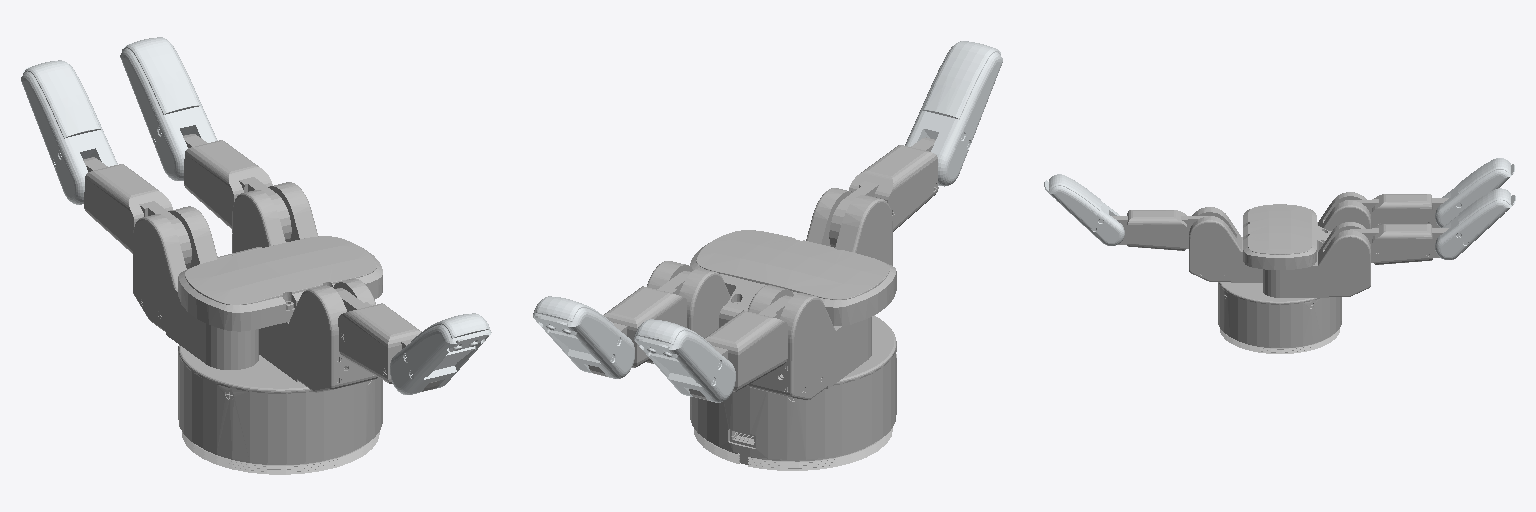
robot.urdf — BarrettHand-280:
<?xml version="1.0" encoding="utf-8"?>

<robot name="BarrettHand-280">

  <link name="base_link">
    <inertial>
      <origin
        xyz="-1.53444458471812E-05 -0.00277693650469599 0.0352882288900349"
        rpy="0 0 0" />
      <mass
        value="0.37796637904835" />
      <inertia
        ixx="0.000427326369503117"
        ixy="-2.6443308211041E-07"
        ixz="2.02907486148204E-07"
        iyy="0.000361316173022239"
        iyz="3.07926859199233E-05"
        izz="0.000376798127757583" />
    </inertial>
    <visual>
      <origin
        xyz="0 0 0"
        rpy="0 0 0" />
      <geometry>
        <mesh
          filename="package://BarrettHand-280.SLDASM/meshes/base_link.STL" />
      </geometry>
      <material
        name="">
        <color
          rgba="0.752941176470588 0.752941176470588 0.752941176470588 1" />
      </material>
    </visual>
    <collision>
      <origin
        xyz="0 0 0"
        rpy="0 0 0" />
      <geometry>
        <mesh
          filename="package://BarrettHand-280.SLDASM/meshes/base_link.STL" />
      </geometry>
    </collision>
  </link>

  <joint name="finger_1_prox_joint"
    type="revolute">
    <origin
      xyz="0.025 0 0.0415000000000004"
      rpy="3.14159265358979 0 1.5707963267949" />
    <parent
      link="base_link" />
    <child
      link="finger_1_prox_link" />
    <axis
      xyz="0 0 1" />
    <limit
      lower="0"
      upper="3.14"
      effort="0"
      velocity="0.001" />
  </joint>

  <link name="finger_1_prox_link">
    <inertial>
      <origin
        xyz="0.0288648917008987 9.98379746692118E-05 -0.0171253477569802"
        rpy="0 0 0" />
      <mass
        value="56143.0626955765" />
      <inertia
        ixx="10.4484040652085"
        ixy="-0.117861448219975"
        ixz="5.31613760585343"
        iyy="33.9552353012776"
        iyz="0.0780041192837709"
        izz="29.3669090518615" />
    </inertial>
    <visual>
      <origin
        xyz="0 0 0"
        rpy="0 0 0" />
      <geometry>
        <mesh
          filename="package://BarrettHand-280.SLDASM/meshes/finger_1_prox_link.STL" />
      </geometry>
      <material
        name="">
        <color
          rgba="0.752941176470588 0.752941176470588 0.752941176470588 1" />
      </material>
    </visual>
    <collision>
      <origin
        xyz="0 0 0"
        rpy="0 0 0" />
      <geometry>
        <mesh
          filename="package://BarrettHand-280.SLDASM/meshes/finger_1_prox_link.STL" />
      </geometry>
    </collision>
  </link>



  <link
    name="finger_1_med_liink">
    <inertial>
      <origin
        xyz="0.030918176135544 0.00196930249325443 -0.000743369842666076"
        rpy="0 0 0" />
      <mass
        value="31321.1214212939" />
      <inertia
        ixx="2.18512832127284"
        ixy="-0.844484268309696"
        ixz="-0.0135401272401388"
        iyy="17.3596441998536"
        iyz="-0.00112669216751947"
        izz="17.7656644395659" />
    </inertial>
    <visual>
      <origin
        xyz="0 0 0"
        rpy="0 0 0" />
      <geometry>
        <mesh
          filename="package://BarrettHand-280.SLDASM/meshes/finger_1_med_liink.STL" />
      </geometry>
      <material
        name="">
        <color
          rgba="0.752941176470588 0.752941176470588 0.752941176470588 1" />
      </material>
    </visual>
    <collision>
      <origin
        xyz="0 0 0"
        rpy="0 0 0" />
      <geometry>
        <mesh
          filename="package://BarrettHand-280.SLDASM/meshes/finger_1_med_liink.STL" />
      </geometry>
    </collision>
  </link>

  <joint
    name="finger_1_med_joint"
    type="revolute">
    <origin
      xyz="0.05 0 -0.0339"
      rpy="-1.5707963267949 0 0" />
    <parent
      link="finger_1_prox_link" />
    <child
      link="finger_1_med_liink" />
    <axis
      xyz="0 0 1" />
    <limit
      lower="0"
      upper="2.442"
      effort="0"
      velocity="0.001" />
  </joint>

  <link
    name="finger_1_dist_link">
    <inertial>
      <origin
        xyz="0.0183314958539984 0.0175633699810199 -0.000497127764360405"
        rpy="0 0 0" />
      <mass
        value="19342.3313676742" />
      <inertia
        ixx="3.6746611256125"
        ixy="-2.57800680729493"
        ixz="0.0345727627030951"
        iyy="4.08727013390303"
        iyz="0.0329223458041859"
        izz="5.9939538795115" />
    </inertial>
    <visual>
      <origin
        xyz="0 0 0"
        rpy="0 0 0" />
      <geometry>
        <mesh
          filename="package://BarrettHand-280.SLDASM/meshes/finger_1_dist_link.STL" />
      </geometry>
      <material
        name="">
        <color
          rgba="0.898039215686275 0.917647058823529 0.929411764705882 1" />
      </material>
    </visual>
    <collision>
      <origin
        xyz="0 0 0"
        rpy="0 0 0" />
      <geometry>
        <mesh
          filename="package://BarrettHand-280.SLDASM/meshes/finger_1_dist_link.STL" />
      </geometry>
    </collision>
  </link>

  <joint
    name="finger_1_dist_joint"
    type="revolute">
    <origin
      xyz="0.0699356847396234 0.003 0"
      rpy="0 0 0" />
    <parent
      link="finger_1_med_liink" />
    <child
      link="finger_1_dist_link" />
    <axis
      xyz="0 0 1" />
    <limit
      lower="0"
      upper="0.8373"
      effort="0"
      velocity="0.001" />
  </joint>

  <link
    name="finger_2_prox_link">
    <inertial>
      <origin
        xyz="0.0288648917008987 -9.98379746692153E-05 0.0171253477569802"
        rpy="0 0 0" />
      <mass
        value="56143.0626955765" />
      <inertia
        ixx="10.4484040652085"
        ixy="0.117861448219975"
        ixz="-5.31613760585343"
        iyy="33.9552353012776"
        iyz="0.0780041192837699"
        izz="29.3669090518615" />
    </inertial>
    <visual>
      <origin
        xyz="0 0 0"
        rpy="0 0 0" />
      <geometry>
        <mesh
          filename="package://BarrettHand-280.SLDASM/meshes/finger_2_prox_link.STL" />
      </geometry>
      <material
        name="">
        <color
          rgba="0.752941176470588 0.752941176470588 0.752941176470588 1" />
      </material>
    </visual>
    <collision>
      <origin
        xyz="0 0 0"
        rpy="0 0 0" />
      <geometry>
        <mesh
          filename="package://BarrettHand-280.SLDASM/meshes/finger_2_prox_link.STL" />
      </geometry>
    </collision>
  </link>

  <joint
    name="finger_2_prox_joint"
    type="revolute">
    <origin
      xyz="-0.025 0 0.0415000000000004"
      rpy="0 0 1.5707963267949" />
    <parent
      link="base_link" />
    <child
      link="finger_2_prox_link" />
    <axis
      xyz="0 0 -1" />
    <limit
      lower="-3.14"
      upper="0"
      effort="1"
      velocity="0.001" />
  </joint>

  <link
    name="finger_2_med_link">
    <inertial>
      <origin
        xyz="0.0309061378225848 0.00214997948654991 -0.000743369814045599"
        rpy="0 0 0" />
      <mass
        value="31321.1215499126" />
      <inertia
        ixx="2.19551825824831"
        ixy="-0.933117181988174"
        ixz="-0.0135333166873643"
        iyy="17.3492542935561"
        iyz="-0.00120585854514776"
        izz="17.7656644132238" />
    </inertial>
    <visual>
      <origin
        xyz="0 0 0"
        rpy="0 0 0" />
      <geometry>
        <mesh
          filename="package://BarrettHand-280.SLDASM/meshes/finger_2_med_link.STL" />
      </geometry>
      <material
        name="">
        <color
          rgba="0.752941176470588 0.752941176470588 0.752941176470588 1" />
      </material>
    </visual>
    <collision>
      <origin
        xyz="0 0 0"
        rpy="0 0 0" />
      <geometry>
        <mesh
          filename="package://BarrettHand-280.SLDASM/meshes/finger_2_med_link.STL" />
      </geometry>
    </collision>
  </link>

  <joint
    name="finger_2_med_joint"
    type="revolute">
    <origin
      xyz="0.05 0 0.0339"
      rpy="1.5707963267949 0 0" />
    <parent
      link="finger_2_prox_link" />
    <child
      link="finger_2_med_link" />
    <axis
      xyz="0 0 1" />
    <limit
      lower="0"
      upper="2.442"
      effort="0"
      velocity="0.001" />
  </joint>

  <link
    name="finger_2_dist_link">
    <inertial>
      <origin
        xyz="0.0181940670014982 0.0177056949358594 -0.00049712776428296"
        rpy="0 0 0" />
      <mass
        value="19342.3314711351" />
      <inertia
        ixx="3.71486606059011"
        ixy="-2.58090906864381"
        ixz="0.0343151438112268"
        iyy="4.04706523231237"
        iyz="0.033190779182162"
        izz="5.99395392015211" />
    </inertial>
    <visual>
      <origin
        xyz="0 0 0"
        rpy="0 0 0" />
      <geometry>
        <mesh
          filename="package://BarrettHand-280.SLDASM/meshes/finger_2_dist_link.STL" />
      </geometry>
      <material
        name="">
        <color
          rgba="0.898039215686275 0.917647058823529 0.929411764705882 1" />
      </material>
    </visual>
    <collision>
      <origin
        xyz="0 0 0"
        rpy="0 0 0" />
      <geometry>
        <mesh
          filename="package://BarrettHand-280.SLDASM/meshes/finger_2_dist_link.STL" />
      </geometry>
    </collision>
  </link>

  <joint
    name="finger_2_dist_joint"
    type="revolute">
    <origin
      xyz="0.0699169557175366 0.00340870990147102 0"
      rpy="0 0 0" />
    <parent
      link="finger_2_med_link" />
    <child
      link="finger_2_dist_link" />
    <axis
      xyz="0 0 1" />
    <limit
      lower="0"
      upper="0.8373"
      effort="0"
      velocity="0.001" />
  </joint>

  <link
    name="finger_3_med_link">
    <inertial>
      <origin
        xyz="0.0309181761355441 0.00196930249325443 -0.000743369842666415"
        rpy="0 0 0" />
      <mass
        value="31321.121421294" />
      <inertia
        ixx="2.18512832127284"
        ixy="-0.844484268309697"
        ixz="-0.0135401272400822"
        iyy="17.3596441998537"
        iyz="-0.00112669216751505"
        izz="17.7656644395659" />
    </inertial>
    <visual>
      <origin
        xyz="0 0 0"
        rpy="0 0 0" />
      <geometry>
        <mesh
          filename="package://BarrettHand-280.SLDASM/meshes/finger_3_med_link.STL" />
      </geometry>
      <material
        name="">
        <color
          rgba="0.752941176470588 0.752941176470588 0.752941176470588 1" />
      </material>
    </visual>
    <collision>
      <origin
        xyz="0 0 0"
        rpy="0 0 0" />
      <geometry>
        <mesh
          filename="package://BarrettHand-280.SLDASM/meshes/finger_3_med_link.STL" />
      </geometry>
    </collision>
  </link>

  <joint
    name="finger_3_med_joint"
    type="revolute">
    <origin
      xyz="0 -0.05 0.0754000000000003"
      rpy="1.5707963267949 0 -1.5707963267949" />
    <parent
      link="base_link" />
    <child
      link="finger_3_med_link" />
    <axis
      xyz="0 0 -1" />
    <limit
      lower="-2.442"
      upper="0"
      effort="0"
      velocity="0.001" />
  </joint>

  <link
    name="finger_3_dist_link">
    <inertial>
      <origin
        xyz="0.0183314958544332 0.0175633699805676 -0.000497127764368882"
        rpy="0 0 0" />
      <mass
        value="19342.3313676742" />
      <inertia
        ixx="3.67466112548529"
        ixy="-2.57800680728476"
        ixz="0.0345727627040426"
        iyy="4.08727013403026"
        iyz="0.0329223458034849"
        izz="5.9939538795115" />
    </inertial>
    <visual>
      <origin
        xyz="0 0 0"
        rpy="0 0 0" />
      <geometry>
        <mesh
          filename="package://BarrettHand-280.SLDASM/meshes/finger_3_dist_link.STL" />
      </geometry>
      <material
        name="">
        <color
          rgba="0.898039215686275 0.917647058823529 0.929411764705882 1" />
      </material>
    </visual>
    <collision>
      <origin
        xyz="0 0 0"
        rpy="0 0 0" />
      <geometry>
        <mesh
          filename="package://BarrettHand-280.SLDASM/meshes/finger_3_dist_link.STL" />
      </geometry>
    </collision>
  </link>

  <joint
    name="finger_3_dist_joint"
    type="revolute">
    <origin
      xyz="0.0699356847396236 0.00300000000000011 0"
      rpy="0 0 0" />
    <parent
      link="finger_3_med_link" />
    <child
      link="finger_3_dist_link" />
    <axis
      xyz="0 0 1" />
    <limit
      lower="0"
      upper="0.8373"
      effort="0"
      velocity="0.001" />
  </joint>



  <joint name="joint_base_c"
    type="fixed">
    <origin
      xyz="0 0 0"
      rpy="0 0 0" />
    <parent
      link="base_link" />
    <child
      link="contact_point_base" />
  </joint>

  <link name="contact_point_base">
    <visual>
      <origin rpy="0 0 0" xyz="0 0 0.08"/>
      <geometry>
        <mesh filename="/urdf_model/contact point.obj" scale="1 1 1"/>
      </geometry>
       <material name="red">
        <color rgba="1 0 0 1"/>
      </material>
    </visual>
    <collision>
      <origin rpy="0 0 0" xyz="0 0 0.08"/>
      <geometry>
        <mesh filename="/urdf_model/small_cube.obj" scale="1 1 1"/>
      </geometry>
    </collision>
    <inertial>
      <mass value="0.5"/>
      <inertia ixx="1.0" ixy="0.0" ixz="0.0" iyy="1.0" iyz="0.0" izz="1.0"/>
    </inertial>
  </link>

  <joint name="joint_f1_med_c"
    type="fixed">
    <origin
      xyz="0 0 0"
      rpy="0 0 0" />
    <parent
      link="finger_1_med_liink" />
    <child
      link="contact_point_f1_med" />
  </joint>

  <link name="contact_point_f1_med">
    <visual>
      <origin rpy="0 0 0" xyz="0.04 0.014 0"/>
      <geometry>
        <mesh filename="/urdf_model/contact point.obj" scale="1 1 1"/>
      </geometry>
       <material name="red">
        <color rgba="1 0 0 1"/>
      </material>
    </visual>
    <collision>
      <origin rpy="0 0 0" xyz="0.04 0.014 0"/>
      <geometry>
        <mesh filename="/urdf_model/contact point.obj" scale="1 1 1"/>
      </geometry>
    </collision>
    <inertial>
      <mass value="0.5"/>
      <inertia ixx="1.0" ixy="0.0" ixz="0.0" iyy="1.0" iyz="0.0" izz="1.0"/>
    </inertial>
  </link>

  <joint name="joint_f1_dist_c"
    type="fixed">
    <origin
      xyz="0 0 0"
      rpy="0 0 0" />
    <parent
      link="finger_1_dist_link" />
    <child
      link="contact_point_f1_dist" />
  </joint>

  <link name="contact_point_f1_dist">
    <visual>
      <origin rpy="0 0 0.733" xyz="0.015 0.025 0"/>
      <geometry>
        <mesh filename="/urdf_model/contact point.obj" scale="1 1 1"/>
      </geometry>
       <material name="red">
        <color rgba="1 0 0 1"/>
      </material>
    </visual>
    <collision>
      <origin rpy="0 0 0.733" xyz="0.015 0.025 0"/>
      <geometry>
        <mesh filename="/urdf_model/contact point.obj" scale="1 1 1"/>
      </geometry>
    </collision>
    <inertial>
      <mass value="0.5"/>
      <inertia ixx="1.0" ixy="0.0" ixz="0.0" iyy="1.0" iyz="0.0" izz="1.0"/>
    </inertial>
  </link>

  <joint name="joint_f2_med_c"
    type="fixed">
    <origin
      xyz="0 0 0"
      rpy="0 0 0" />
    <parent
      link="finger_2_med_link" />
    <child
      link="contact_point_f2_med" />
  </joint>

  <link name="contact_point_f2_med">
    <visual>
      <origin rpy="0 0 0" xyz="0.04 0.014 0"/>
      <geometry>
        <mesh filename="/urdf_model/contact point.obj" scale="1 1 1"/>
      </geometry>
       <material name="red">
        <color rgba="1 0 0 1"/>
      </material>
    </visual>
    <collision>
      <origin rpy="0 0 0" xyz="0.04 0.014 0"/>
      <geometry>
        <mesh filename="/urdf_model/contact point.obj" scale="1 1 1"/>
      </geometry>
    </collision>
    <inertial>
      <mass value="0.5"/>
      <inertia ixx="1.0" ixy="0.0" ixz="0.0" iyy="1.0" iyz="0.0" izz="1.0"/>
    </inertial>
  </link>

  <joint name="joint_f2_dist_c"
    type="fixed">
    <origin
      xyz="0 0 0"
      rpy="0 0 0" />
    <parent
      link="finger_2_dist_link" />
    <child
      link="contact_point_f2_dist" />
  </joint>

  <link name="contact_point_f2_dist">
    <visual>
      <origin rpy="0 0 0.733" xyz="0.015 0.025 0"/>
      <geometry>
        <mesh filename="/urdf_model/contact point.obj" scale="1 1 1"/>
      </geometry>
       <material name="red">
        <color rgba="1 0 0 1"/>
      </material>
    </visual>
    <collision>
      <origin rpy="0 0 0.733" xyz="0.015 0.025 0"/>
      <geometry>
        <mesh filename="/urdf_model/contact point.obj" scale="1 1 1"/>
      </geometry>
    </collision>
    <inertial>
      <mass value="0.5"/>
      <inertia ixx="1.0" ixy="0.0" ixz="0.0" iyy="1.0" iyz="0.0" izz="1.0"/>
    </inertial>
  </link>

  <joint name="joint_f3_med_c"
    type="fixed">
    <origin
      xyz="0 0 0"
      rpy="0 0 0" />
    <parent
      link="finger_3_med_link" />
    <child
      link="contact_point_f3_med" />
  </joint>

  <link name="contact_point_f3_med">
    <visual>
      <origin rpy="0 0 0" xyz="0.04 0.014 0"/>
      <geometry>
        <mesh filename="/urdf_model/contact point.obj" scale="1 1 1"/>
      </geometry>
       <material name="red">
        <color rgba="1 0 0 1"/>
      </material>
    </visual>
    <collision>
      <origin rpy="0 0 0" xyz="0.04 0.014 0"/>
      <geometry>
        <mesh filename="/urdf_model/contact point.obj" scale="1 1 1"/>
      </geometry>
    </collision>
    <inertial>
      <mass value="0.5"/>
      <inertia ixx="1.0" ixy="0.0" ixz="0.0" iyy="1.0" iyz="0.0" izz="1.0"/>
    </inertial>
  </link>

  <joint name="joint_f3_dist_c"
    type="fixed">
    <origin
      xyz="0 0 0"
      rpy="0 0 0" />
    <parent
      link="finger_3_dist_link" />
    <child
      link="contact_point_f3_dist" />
  </joint>

  <link name="contact_point_f3_dist">
    <visual>
      <origin rpy="0 0 0.733" xyz="0.015 0.025 0"/>
      <geometry>
        <mesh filename="/urdf_model/contact point.obj" scale="1 1 1"/>
      </geometry>
       <material name="red">
        <color rgba="1 0 0 1"/>
      </material>
    </visual>
    <collision>
      <origin rpy="0 0 0.733" xyz="0.015 0.025 0"/>
      <geometry>
        <mesh filename="/urdf_model/contact point.obj" scale="1 1 1"/>
      </geometry>
    </collision>
    <inertial>
      <mass value="0.5"/>
      <inertia ixx="1.0" ixy="0.0" ixz="0.0" iyy="1.0" iyz="0.0" izz="1.0"/>
    </inertial>
  </link>

</robot>

--- What the picture shows (computed from the rendered views, not written in the file) ---
3 views of the same robot in one strip: view 1: azimuth 30°, elevation 25°; view 2: azimuth 150°, elevation 25°; view 3: azimuth 270°, elevation 25° (orthographic).
Robot: BarrettHand-280 — 16 links, 15 joints (8 revolute, 7 fixed); root link base_link; default pose: every joint at zero.
Visible links, largest first — view 1: base_link, finger_2_prox_link, finger_2_dist_link, finger_1_dist_link, finger_2_med_link, finger_1_med_liink, finger_3_dist_link, finger_3_med_link, finger_1_prox_link; view 2: base_link, finger_2_prox_link, finger_3_dist_link, finger_3_med_link, finger_2_dist_link, finger_1_dist_link, finger_2_med_link, finger_1_med_liink, finger_1_prox_link; view 3: base_link, finger_1_prox_link, finger_1_med_liink, finger_3_med_link, finger_1_dist_link, finger_3_dist_link, finger_2_dist_link, finger_2_med_link, finger_2_prox_link.
Boxes of the visible links, x1,y1,x2,y2 form: base_link: (178, 236, 382, 474); finger_2_prox_link: (133, 206, 258, 369); finger_2_dist_link: (21, 60, 117, 204); finger_1_dist_link: (120, 37, 217, 180); finger_2_med_link: (83, 157, 191, 268); finger_1_med_liink: (183, 134, 291, 241); finger_3_dist_link: (390, 313, 491, 394); finger_3_med_link: (335, 288, 439, 391); finger_1_prox_link: (232, 182, 317, 252); base_link: (690, 188, 896, 470); finger_2_prox_link: (747, 285, 871, 400); finger_3_dist_link: (905, 41, 1002, 186); finger_3_med_link: (829, 137, 938, 247); finger_2_dist_link: (634, 319, 735, 402); finger_1_dist_link: (533, 296, 634, 378); finger_2_med_link: (689, 295, 791, 400); finger_1_med_liink: (588, 271, 690, 376); finger_1_prox_link: (647, 261, 730, 363); base_link: (1189, 204, 1341, 353); finger_1_prox_link: (1263, 222, 1370, 297); finger_1_med_liink: (1342, 224, 1448, 264); finger_3_med_link: (1112, 210, 1219, 250); finger_1_dist_link: (1435, 188, 1515, 259); finger_3_dist_link: (1044, 174, 1124, 245); finger_2_dist_link: (1435, 158, 1514, 227); finger_2_med_link: (1345, 194, 1448, 228); finger_2_prox_link: (1317, 192, 1370, 230).
Bounding box of the posed robot: 0.089 × 0.3353 × 0.1194 m (x, y, z).
Meshes: 9 distinct files referenced, 9 mesh visuals loaded (9 binary STL); not drawn: 7 (reference in a form the renderer does not follow; not among the files counted above).
